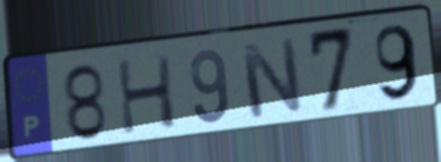7: (305, 25, 358, 118)
8: (60, 62, 109, 142)
9: (373, 22, 420, 104), (187, 46, 231, 127)
H: (113, 51, 179, 139)
N: (237, 36, 306, 122)
